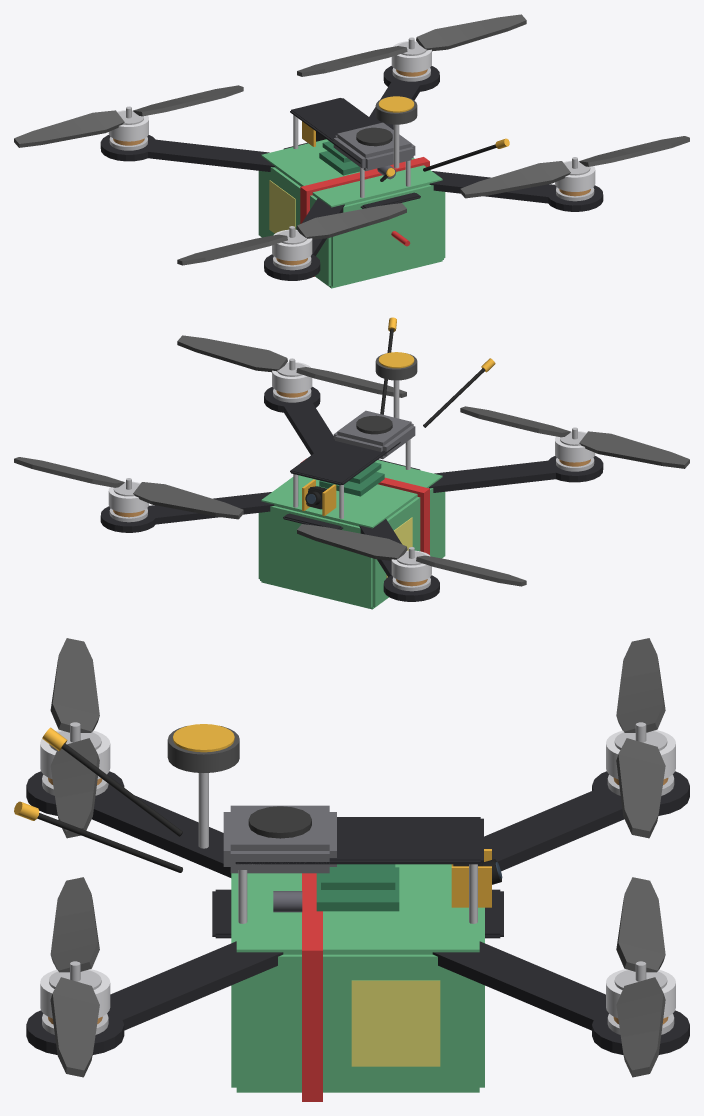
Rendered from longrange10.glb.
3 renders of one model, top to bottom at view 1: azimuth 30°, elevation 25°; view 2: azimuth 150°, elevation 25°; view 3: azimuth 270°, elevation 25°, orthographic. The views are drawn at different scales.
Visible parts, largest first — view 1: body, prop_FL, prop_RR, prop_RL, prop_FR; view 2: body, prop_FR, prop_RL, prop_FL, prop_RR, cam_mount; view 3: body, prop_RR, prop_FR, prop_FL, prop_RL, cam_mount.
Part boxes in pixels (x1=…): body: x1=100, y1=37, x2=603, y2=288; prop_FL: x1=14, y1=85, x2=243, y2=147; prop_RR: x1=460, y1=136, x2=689, y2=198; prop_RL: x1=177, y1=203, x2=406, y2=265; prop_FR: x1=297, y1=14, x2=526, y2=76; body: x1=100, y1=317, x2=603, y2=609; prop_FR: x1=14, y1=457, x2=243, y2=519; prop_RL: x1=460, y1=406, x2=689, y2=468; prop_FL: x1=297, y1=524, x2=526, y2=586; prop_RR: x1=177, y1=335, x2=406, y2=397; cam_mount: x1=302, y1=479, x2=336, y2=516; body: x1=14, y1=722, x2=689, y2=1101; prop_RR: x1=50, y1=877, x2=99, y2=1077; prop_FR: x1=616, y1=877, x2=665, y2=1077; prop_FL: x1=616, y1=638, x2=665, y2=838; prop_RL: x1=50, y1=638, x2=99, y2=838; cam_mount: x1=451, y1=849, x2=491, y2=907.
Bounding box in the file's own units: 0.574 × 0.1952 × 0.3824.
